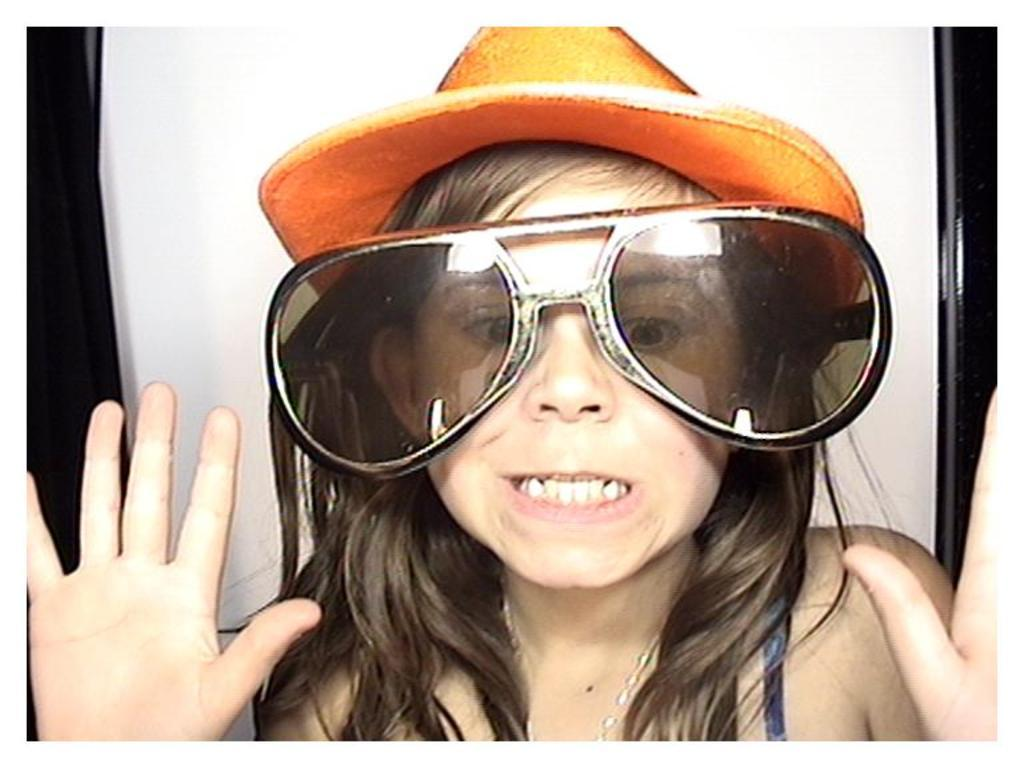Hat: (258, 25, 863, 368)
